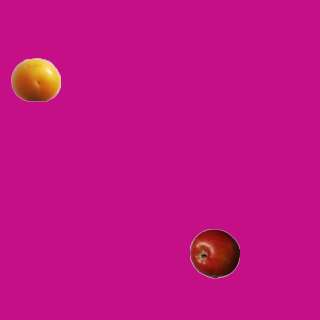Apple Braeburn: (189, 228, 239, 278)
Cherry Wax Yellow: (10, 54, 60, 104)
